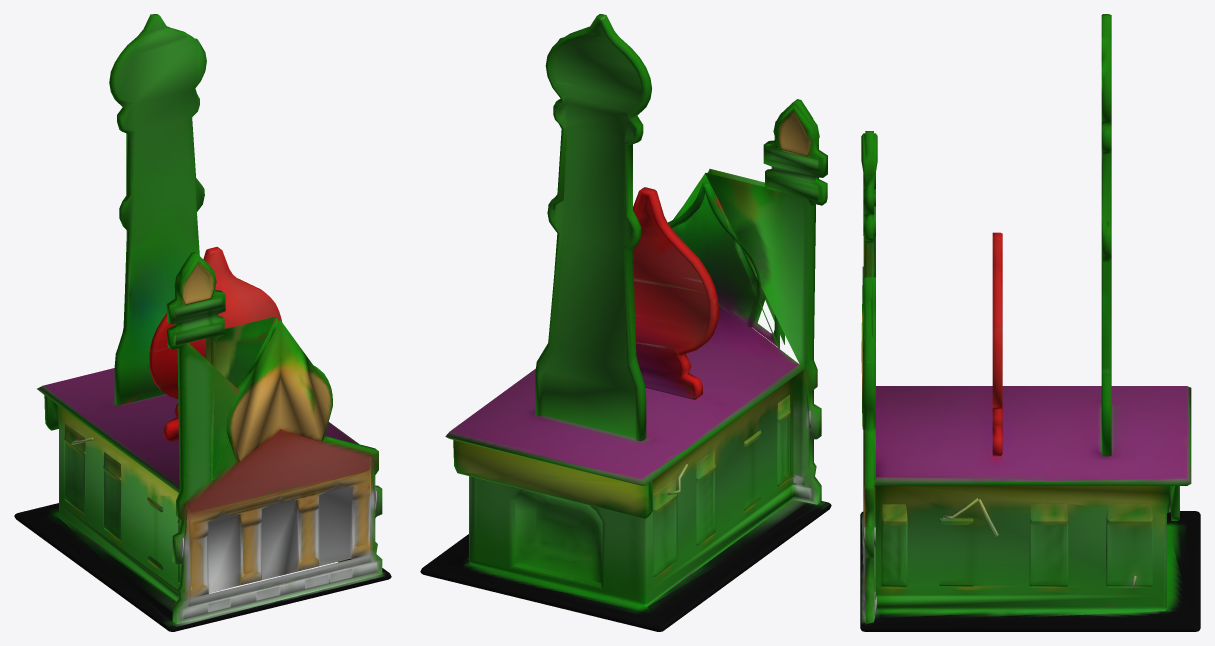
File: pospam_lebaran_1.glb
3 renders of one model, left to right at view 1: azimuth 30°, elevation 25°; view 2: azimuth 150°, elevation 25°; view 3: azimuth 270°, elevation 25°, orthographic. The views are drawn at different scales.
Parts seen in each view (by area): view 1: tripo_node_f6433ee3; view 2: tripo_node_f6433ee3; view 3: tripo_node_f6433ee3.
Part boxes in pixels (<box>): tripo_node_f6433ee3: <box>14,14,391,631</box>; tripo_node_f6433ee3: <box>420,14,831,631</box>; tripo_node_f6433ee3: <box>860,14,1200,631</box>.
Size of the model in its own units: 0.4557 by 1 by 0.5587.
Materials: 1 (1 with a texture image).
